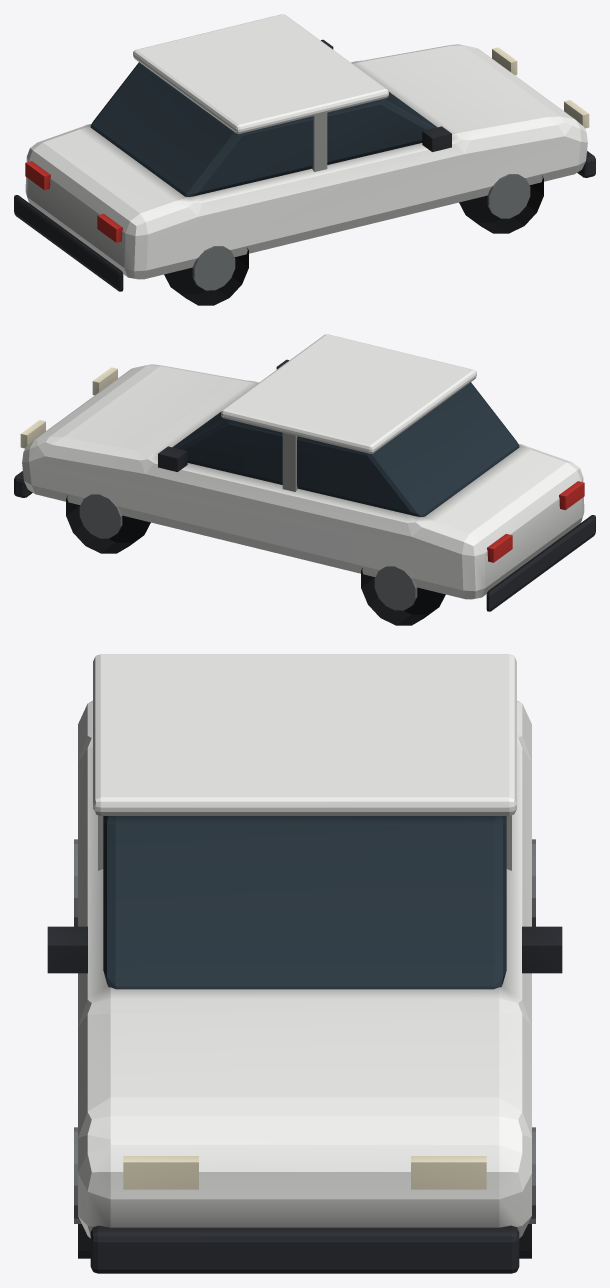
The model's file is sedan-CITH4hHP.glb.
The picture shows the model from 3 angles, top to bottom: view 1: azimuth 30°, elevation 25°; view 2: azimuth 150°, elevation 25°; view 3: azimuth 270°, elevation 25°; orthographic projection. The views are drawn at different scales.
Parts seen in each view (by area): view 1: carroceria, vidrio, pieza, pieza.004, rueda.004, rueda, rueda.005, rueda.001, pieza.001, pieza.005, pieza.010, pieza.008 (+2 smaller); view 2: carroceria, vidrio, pieza, pieza.004, rueda.006, rueda.002, rueda.007, rueda.003, pieza.002, pieza.006, pieza.008, pieza.010 (+2 smaller); view 3: carroceria, vidrio, pieza, pieza.003, pieza.007, pieza.009, pieza.005, pieza.006.
Part boxes in pixels (x1,y1,x2,y2): carroceria: [25, 44, 587, 279]; vidrio: [90, 62, 437, 196]; pieza: [133, 14, 388, 133]; pieza.004: [14, 195, 123, 291]; rueda.004: [459, 175, 543, 233]; rueda: [164, 248, 248, 305]; rueda.005: [487, 174, 530, 218]; rueda.001: [192, 246, 235, 290]; pieza.001: [312, 113, 327, 171]; pieza.005: [422, 126, 451, 151]; pieza.010: [25, 161, 50, 190]; pieza.008: [97, 214, 122, 242]; carroceria: [22, 364, 584, 599]; vidrio: [172, 382, 519, 516]; pieza: [221, 334, 476, 453]; pieza.004: [486, 515, 595, 611]; rueda.006: [66, 495, 150, 553]; rueda.002: [361, 568, 445, 625]; rueda.007: [79, 494, 122, 538]; rueda.003: [374, 566, 417, 610]; pieza.002: [282, 433, 297, 491]; pieza.006: [158, 446, 187, 471]; pieza.008: [559, 481, 584, 510]; pieza.010: [487, 534, 512, 562]; carroceria: [78, 701, 531, 1238]; vidrio: [103, 816, 506, 989]; pieza: [93, 654, 516, 815]; pieza.003: [90, 1225, 519, 1273]; pieza.007: [123, 1156, 198, 1189]; pieza.009: [411, 1156, 486, 1189]; pieza.005: [47, 926, 87, 973]; pieza.006: [522, 926, 562, 973].
Bounding box in the file's own units: 4.37 × 1.48 × 2.04.
